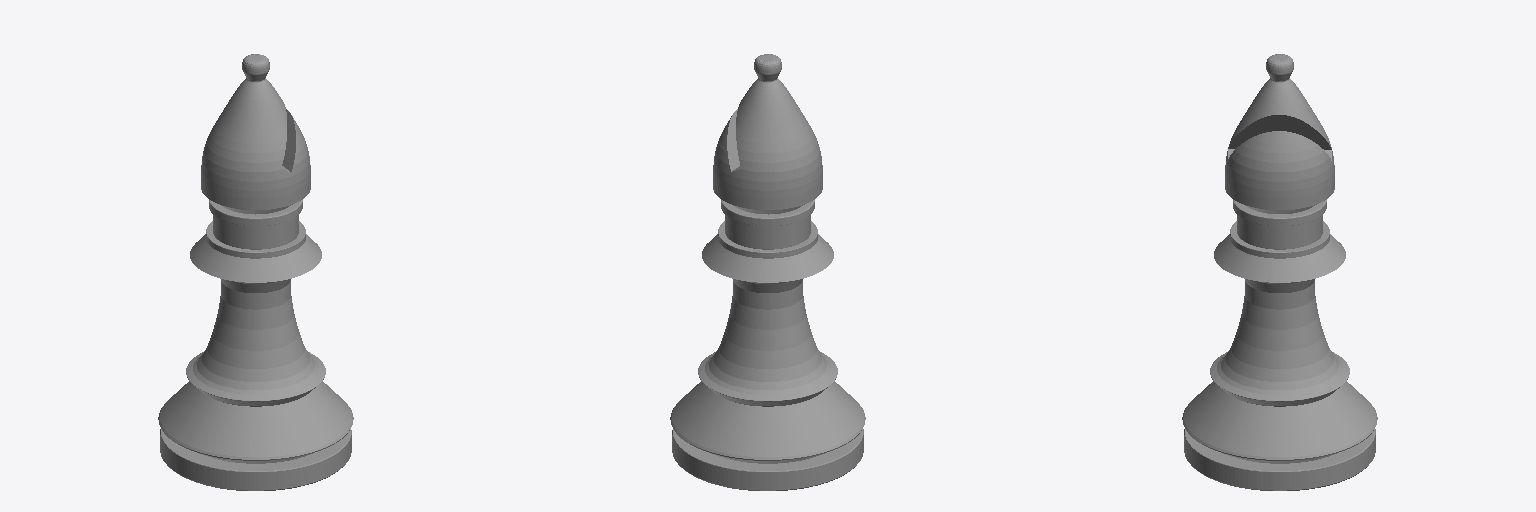
Rendered from bishop.obj.
3 renders of one model, left to right at view 1: azimuth 30°, elevation 25°; view 2: azimuth 150°, elevation 25°; view 3: azimuth 270°, elevation 25°, orthographic.
Visible parts, largest first — view 1: Cylinder; view 2: Cylinder; view 3: Cylinder.
Boxes of the visible parts, x1=… form: Cylinder: x1=158, y1=54, x2=353, y2=490; Cylinder: x1=670, y1=54, x2=865, y2=490; Cylinder: x1=1182, y1=54, x2=1377, y2=490.
Size of the model in its own units: 2.03 by 4.54 by 2.03.